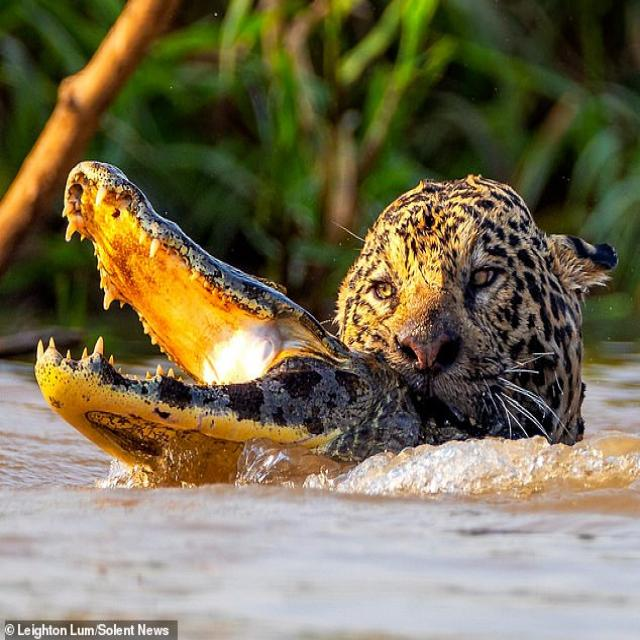Jaguar: (336, 174, 612, 459)
